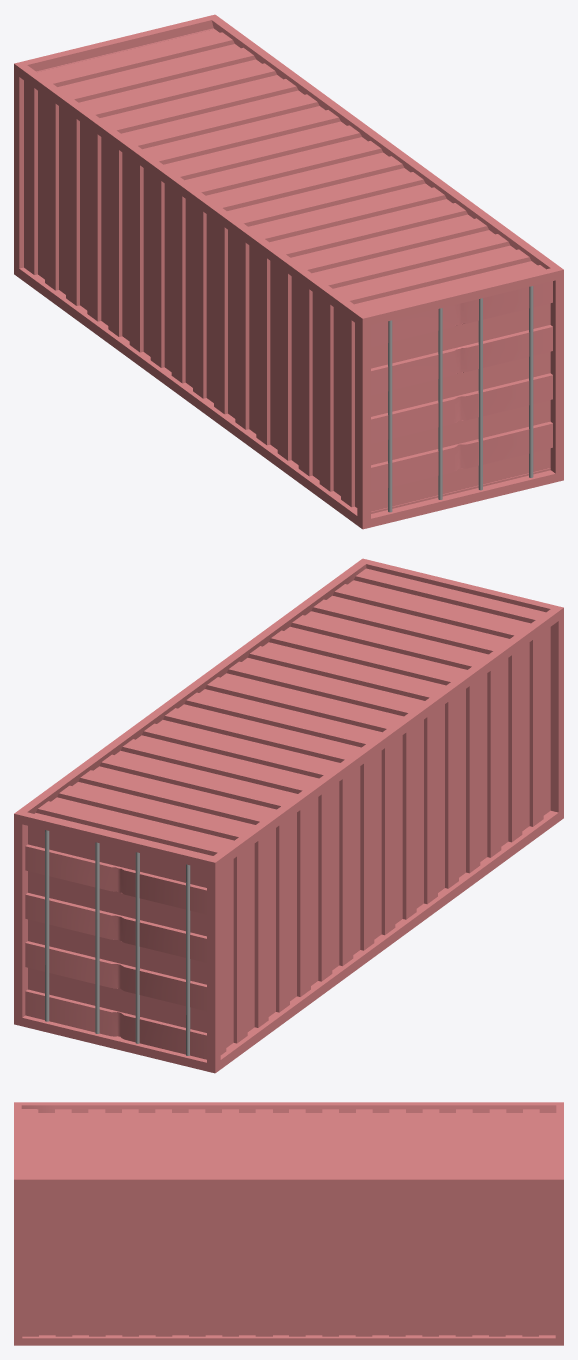
The model's file is Cargo.fbx.
The picture shows the model from 3 angles, top to bottom: view 1: azimuth 30°, elevation 25°; view 2: azimuth 150°, elevation 25°; view 3: azimuth 270°, elevation 25°; orthographic projection. The views are drawn at different scales.
Parts seen in each view (by area): view 1: Cube; view 2: Cube; view 3: Cube.
Boxes of the visible parts, x1,y1,x2,y2 form: Cube: (14, 14, 563, 529); Cube: (14, 558, 563, 1073); Cube: (14, 1102, 563, 1345).
Size of the model in its own units: 200 by 200 by 600.
